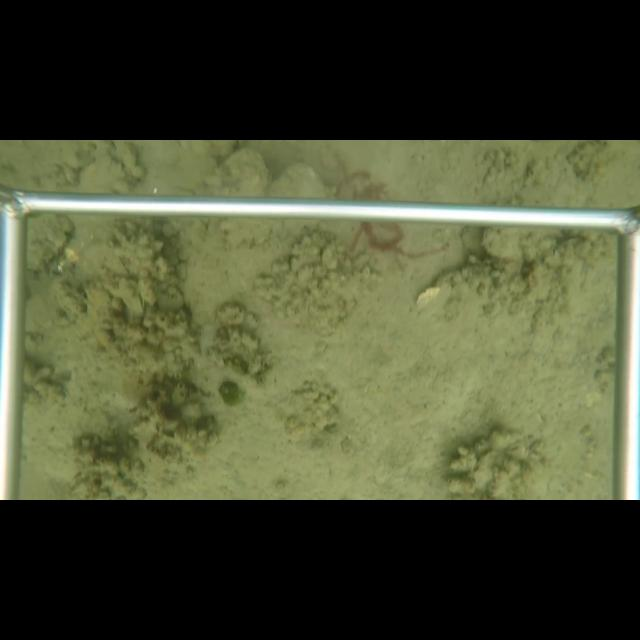Oyster-Closed: (201, 146, 272, 197), (27, 214, 75, 275), (264, 160, 338, 199), (480, 227, 524, 261), (468, 451, 498, 490), (128, 284, 153, 320)
